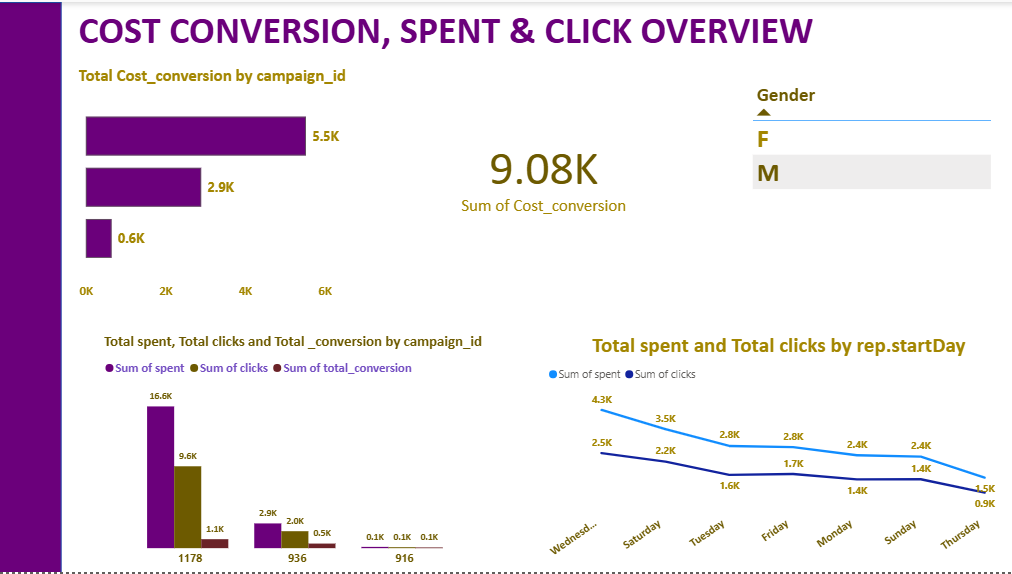

This screenshot's page, from the dashboard's own definition file:
{"tool":"powerbi","page":{"name":"Page 2","canvas":[1280,720],"ordinal":1},"visuals":[{"type":"card","fields":{"Values":["Sum(Facebook ad.Cost_conversion)"]},"box":[528,96,320,240],"z":0},{"type":"barChart","title":"Total Cost_conversion by campaign_id","fields":{"Category":["Facebook ad.campaign_id"],"Y":["Sum(Facebook ad.Cost_conversion)"]},"box":[96,80,352,304],"z":1000},{"type":"tableEx","fields":{"Values":["Facebook ad.gender"]},"box":[944,96,320,224],"z":4000},{"type":"shape","box":[0,0,80,720],"z":5000},{"type":"textbox","box":[96,0,1008,80],"z":6000},{"type":"lineChart","title":"Total spent and Total clicks by rep.startDay","fields":{"Y":["Sum(Facebook ad.spent)","Sum(Facebook ad.clicks)"],"Category":["Facebook ad.rep.startDay"]},"box":[688,416,592,304],"z":6001},{"type":"clusteredColumnChart","title":"Total spent, Total clicks and Total _conversion by campaign_id","fields":{"Category":["Facebook ad.campaign_id"],"Y":["Sum(Facebook ad.spent)","Sum(Facebook ad.clicks)","Sum(Facebook ad.total_conversion)"]},"box":[128,416,496,304],"z":6002}]}

Visuals, with their boxes in screenshot pixels (x1, y1, x2, y2), scaled from the page's 1280x720 canvas onto the 1012x574 screenshot:
card - Sum(Facebook ad.Cost_conversion): [left=417, top=77, right=670, bottom=268]
"Total Cost_conversion by campaign_id" barChart: [left=76, top=64, right=354, bottom=306]
tableEx - Facebook ad.gender: [left=746, top=77, right=999, bottom=255]
shape: [left=0, top=0, right=63, bottom=573]
textbox: [left=76, top=0, right=873, bottom=64]
"Total spent and Total clicks by rep.startDay" lineChart: [left=544, top=332, right=1011, bottom=573]
"Total spent, Total clicks and Total _conversion by campaign_id" clusteredColumnChart: [left=101, top=332, right=493, bottom=573]
